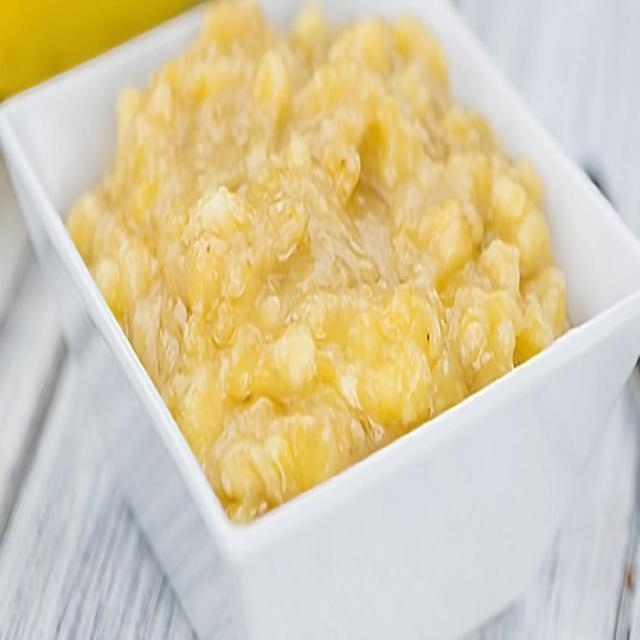platano: (62, 4, 580, 526)
